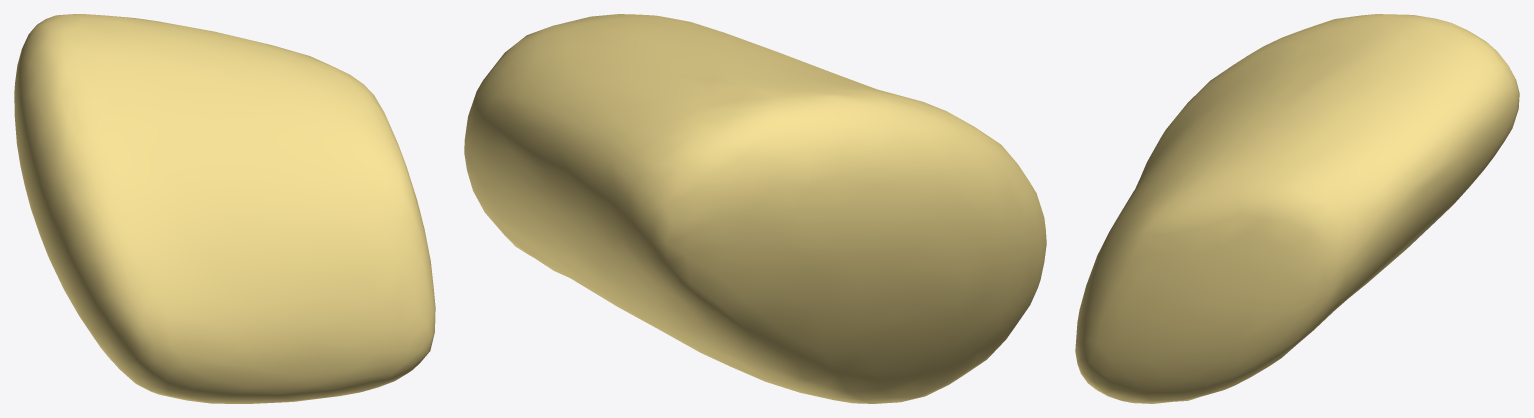
The model's file is fma73329_fj7493m.glb.
3 renders of one model, left to right at view 1: azimuth 30°, elevation 25°; view 2: azimuth 150°, elevation 25°; view 3: azimuth 270°, elevation 25°, orthographic. The views are drawn at different scales.
Visible parts, largest first — view 1: FMA73329_FJ7493M; view 2: FMA73329_FJ7493M; view 3: FMA73329_FJ7493M.
Boxes of the visible parts, x1=… form: FMA73329_FJ7493M: x1=14, y1=14, x2=435, y2=403; FMA73329_FJ7493M: x1=464, y1=14, x2=1046, y2=403; FMA73329_FJ7493M: x1=1075, y1=14, x2=1519, y2=403.
Size of the model in its own units: 0.00335 by 0.00265 by 0.00363.
